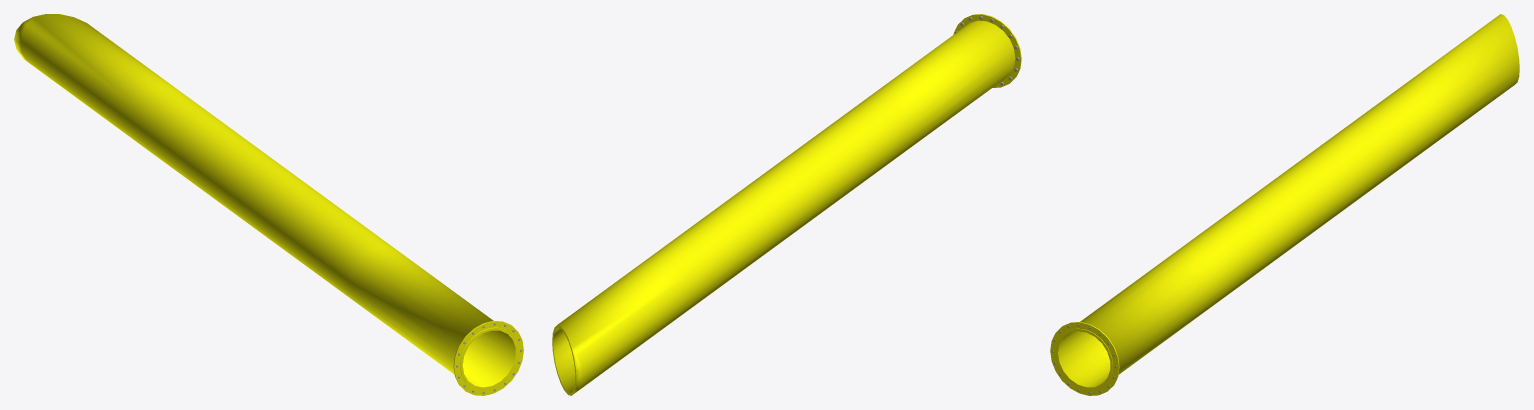
Rendered from clipped_vA.dae.
3 views of the same model, side by side, from view 1: azimuth 30°, elevation 25°; view 2: azimuth 150°, elevation 25°; view 3: azimuth 330°, elevation 25° (orthographic).
Visible parts, largest first — view 1: segment1_clipped; view 2: segment1_clipped; view 3: segment1_clipped.
Part boxes in pixels (box(x1,y1,x2,y2)): segment1_clipped: box(14, 14, 523, 395); segment1_clipped: box(552, 14, 1021, 395); segment1_clipped: box(1050, 14, 1519, 395).
Size of the model in its own units: 0.7315 by 8.1 by 0.7241.
